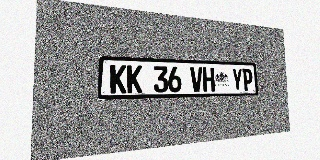3: (154, 66, 168, 92)
6: (168, 66, 181, 92)
H: (203, 67, 215, 92)
K: (110, 64, 126, 93), (127, 65, 142, 93)
P: (242, 68, 253, 91)
V: (190, 67, 203, 92)
Y: (232, 68, 243, 91)
